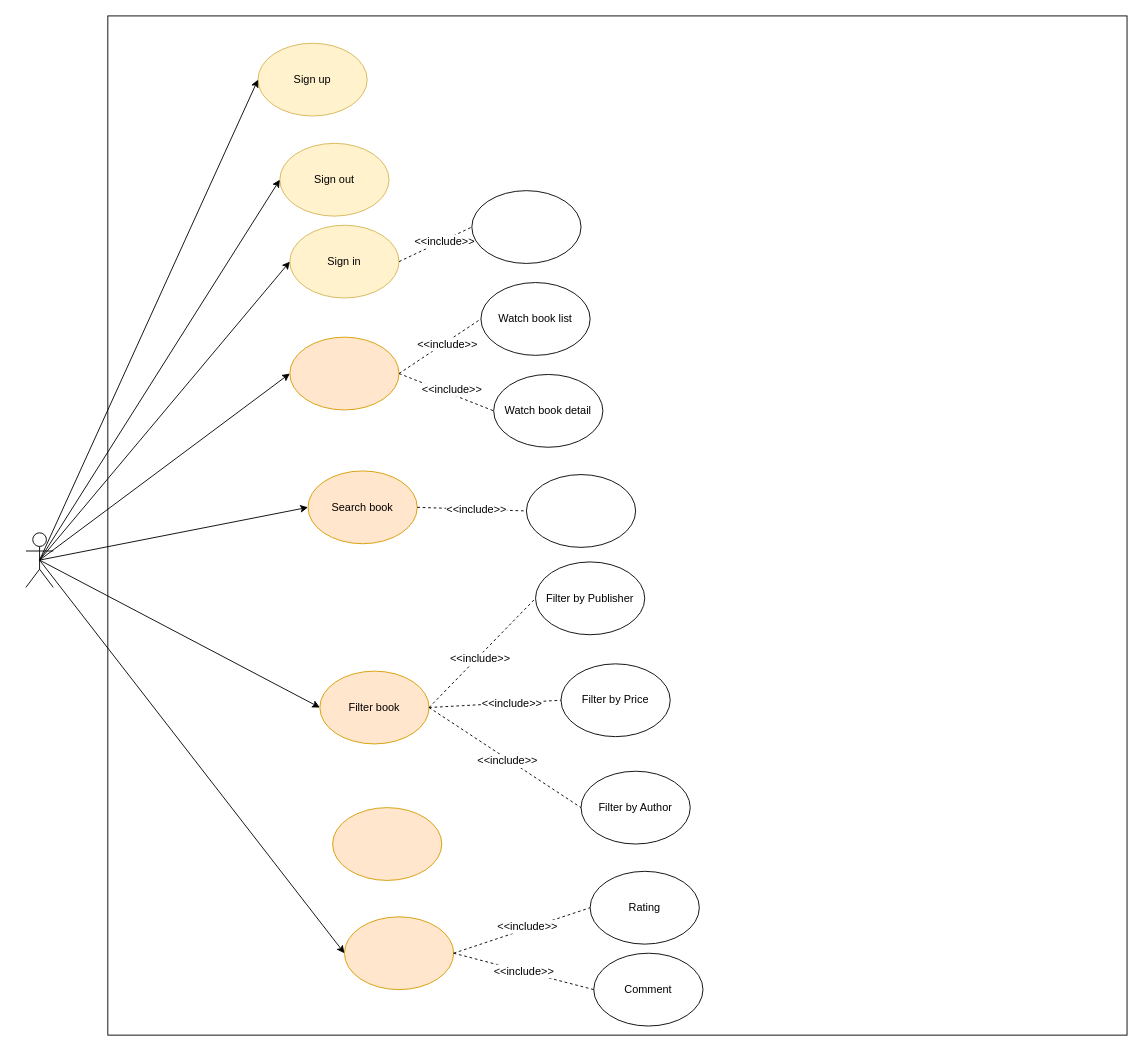
This 1143x1051 diagram has some shape labels left out. The centre of each missing label's shape, as x and y in pixels:
"Customer" belongs at point (39, 559).
"Forget password" belongs at point (526, 226).
"ProofRead" belongs at point (387, 843).
"Remark book" belongs at point (399, 953).
"Search by Name" belongs at point (581, 510).
"Watch book" belongs at point (344, 373).
